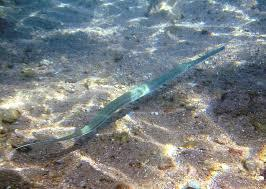Fistularia commersonii: (36, 18, 243, 181)
